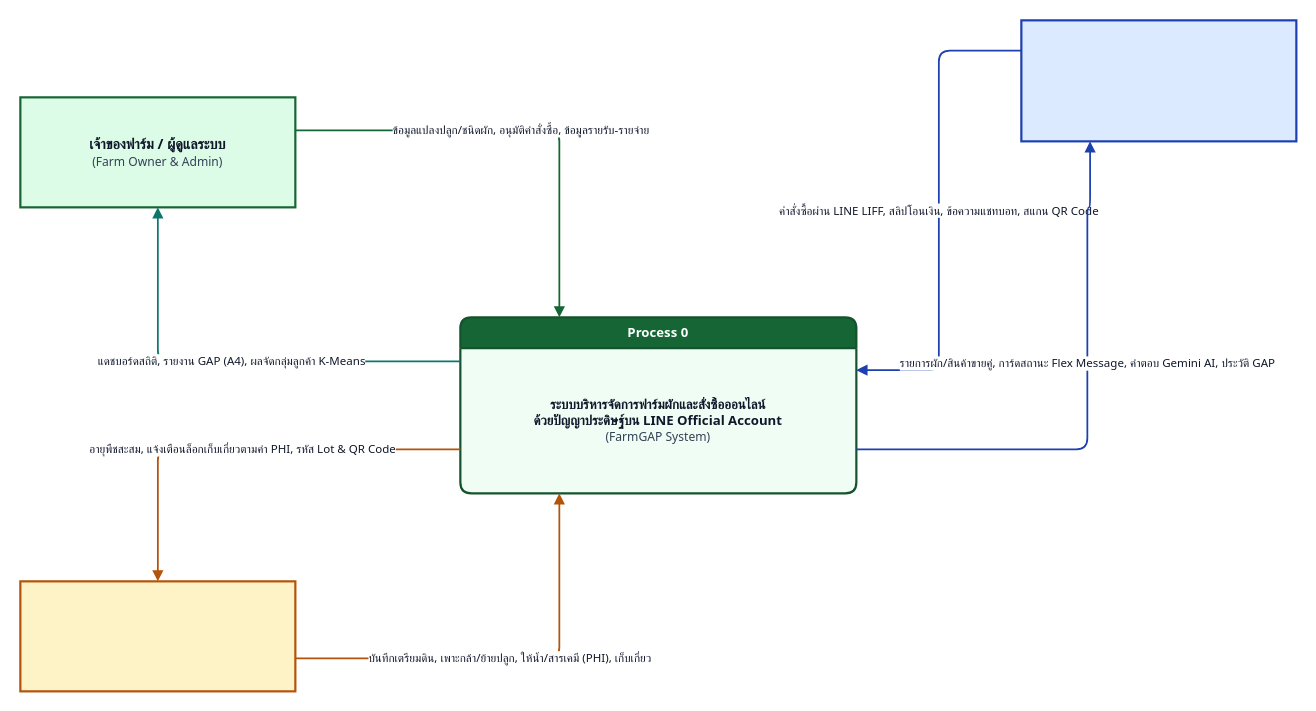
Image size: 1316x711. Some labels were removed from this diagram. The shapes that lost their labels are listed below. From the top down, each one's centre as x and y in pixels, then its label:
At (1158,80): "ลูกค้า / ผู้บริโภค (LINE OA) (Customer & Consumer)".
At (157,636): "เกษตรกร / พนักงานฟาร์ม (Farmer & Field Staff)".
